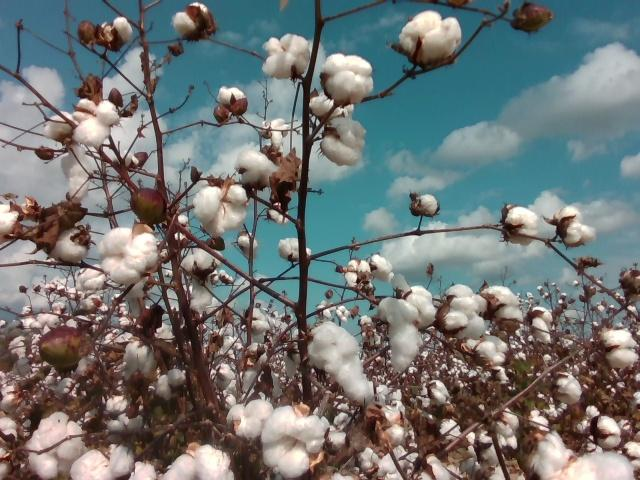cotton_ready: (307, 322, 373, 402), (378, 286, 436, 374), (261, 405, 329, 478), (537, 432, 635, 480), (27, 412, 89, 480), (44, 111, 91, 200), (71, 437, 157, 480), (99, 228, 161, 286), (399, 11, 463, 65), (193, 185, 249, 239), (438, 284, 488, 339), (180, 248, 223, 311), (322, 55, 374, 107), (161, 445, 237, 480), (528, 431, 576, 480), (320, 117, 365, 166), (74, 100, 121, 146), (264, 33, 309, 80), (480, 284, 523, 330), (226, 400, 274, 438), (235, 150, 281, 189), (106, 392, 145, 436), (49, 224, 91, 264), (598, 328, 638, 368), (557, 206, 598, 244), (462, 336, 510, 368), (147, 367, 188, 404), (123, 340, 160, 380), (505, 205, 539, 248), (172, 2, 213, 36), (98, 16, 134, 46), (526, 306, 554, 343), (551, 373, 581, 406), (279, 236, 311, 261), (216, 87, 248, 109), (0, 203, 22, 235), (415, 195, 439, 216)
